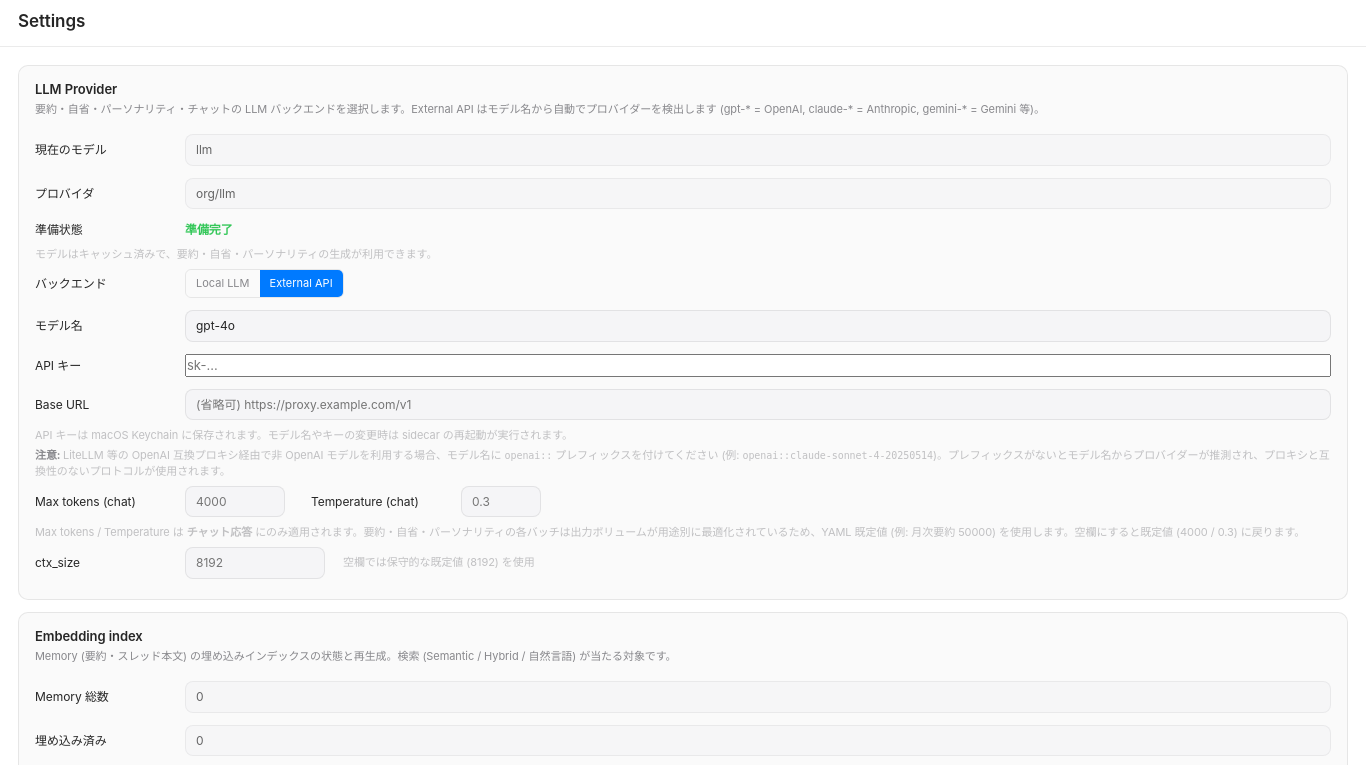
Settings view switching › guards the view switch when an edited form is invalid (no save bar)
The width and height of the screenshot is (1366, 765).
# Clear the model name → invalid (externalIncomplete) but edited.
Clear the 3rd field showing "gpt-4o" at (758, 326), box [185, 310, 1331, 342]
(page scrolled)
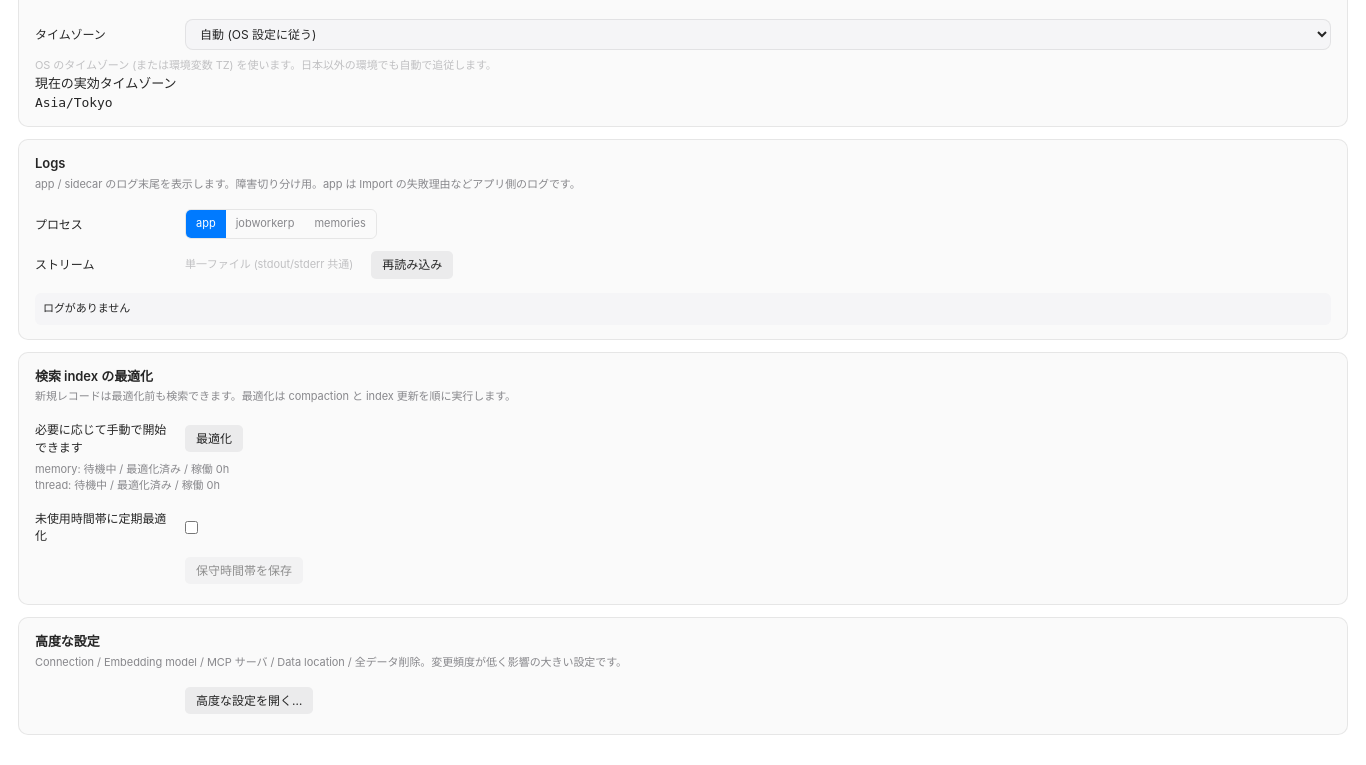
Expected: the text "未保存の変更があります" is not shown
# …but switching views is still intercepted.
Click the button "高度な設定を開く…" at (249, 701), box [185, 687, 313, 714]
(page scrolled)
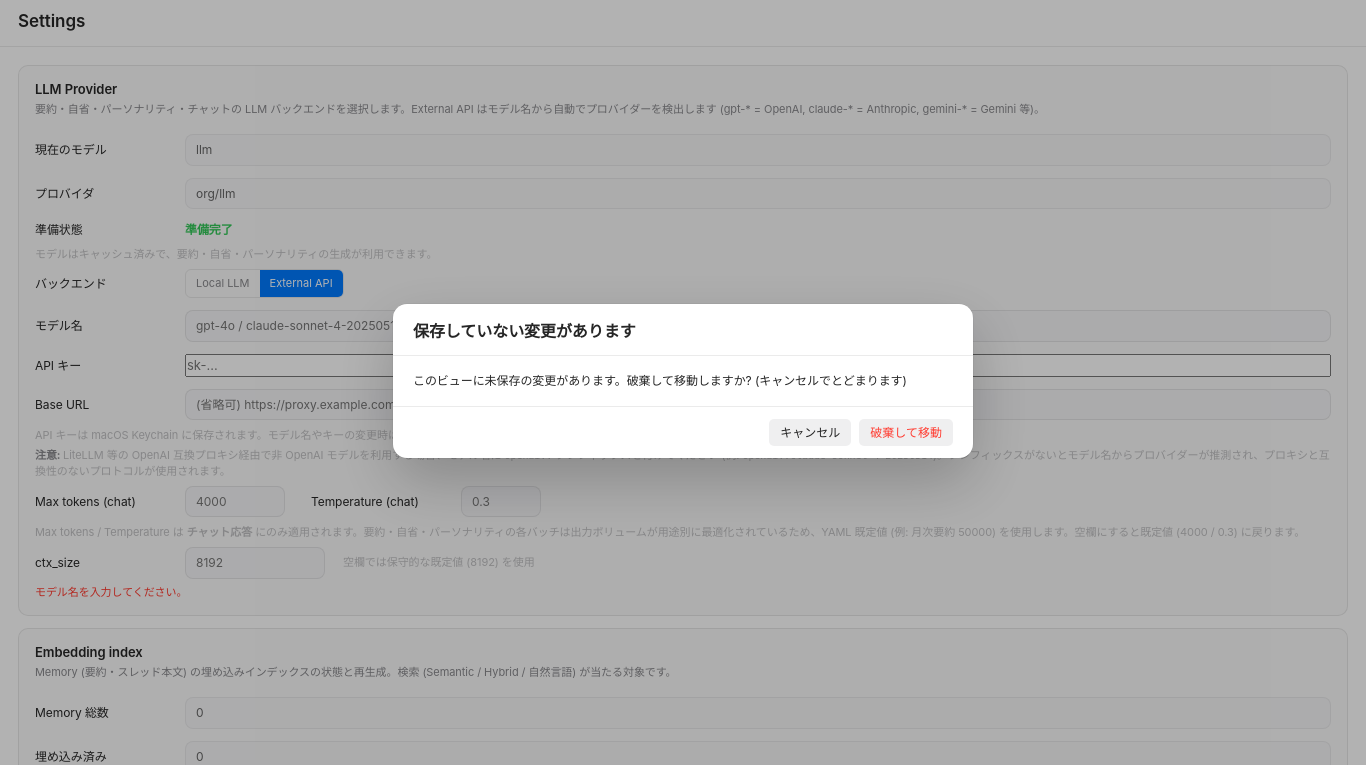
Expected: the text "LLM Provider" is shown, [35, 81, 117, 97]
Result: the text "保存していない変更があります" is shown at [413, 321, 636, 341]
